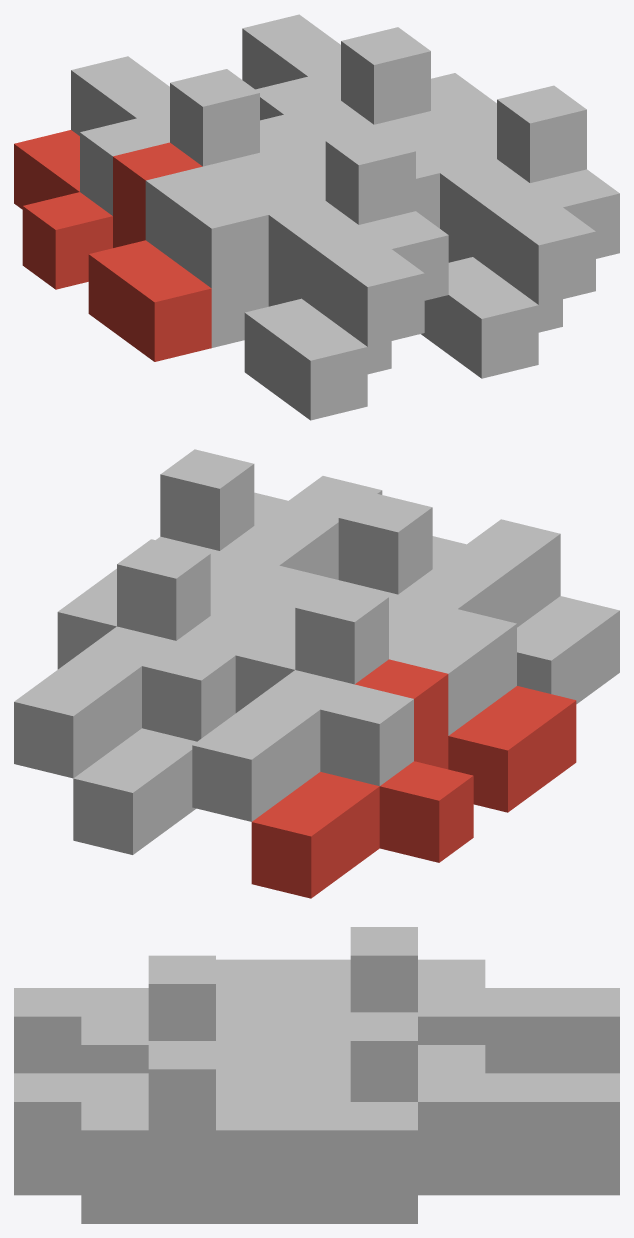
The model's file is tiling.obj.
3 views of the same model, one above another, from view 1: azimuth 30°, elevation 25°; view 2: azimuth 150°, elevation 25°; view 3: azimuth 270°, elevation 25° (orthographic). The views are drawn at different scales.
Visible parts, largest first — view 1: copy_1_domain_3, copy_1_domain_4, copy_1_domain_8, copy_1_domain_1, copy_1_domain_2, copy_1_domain_7, copy_1_domain_6, copy_1_domain_5; view 2: copy_1_domain_3, copy_1_domain_1, copy_1_domain_7, copy_1_domain_4, copy_1_domain_8, copy_1_domain_5, copy_1_domain_2, copy_1_domain_6; view 3: copy_1_domain_8, copy_1_domain_7, copy_1_domain_3, copy_1_domain_4, copy_1_domain_6, copy_1_domain_5.
Boxes of the visible parts, left/top/right/bottom form: copy_1_domain_3: left=71, top=56, right=292, bottom=288; copy_1_domain_4: left=236, top=114, right=448, bottom=346; copy_1_domain_8: left=411, top=73, right=619, bottom=304; copy_1_domain_1: left=14, top=130, right=211, bottom=361; copy_1_domain_2: left=211, top=201, right=391, bottom=420; copy_1_domain_7: left=242, top=14, right=463, bottom=228; copy_1_domain_6: left=421, top=159, right=562, bottom=378; copy_1_domain_5: left=284, top=101, right=373, bottom=138; copy_1_domain_3: left=192, top=582, right=516, bottom=821; copy_1_domain_1: left=251, top=659, right=576, bottom=898; copy_1_domain_7: left=14, top=539, right=338, bottom=778; copy_1_domain_4: left=235, top=493, right=560, bottom=712; copy_1_domain_8: left=57, top=449, right=382, bottom=669; copy_1_domain_5: left=73, top=616, right=269, bottom=854; copy_1_domain_2: left=398, top=569, right=619, bottom=704; copy_1_domain_6: left=220, top=526, right=313, bottom=573; copy_1_domain_8: left=14, top=1041, right=417, bottom=1191; copy_1_domain_7: left=216, top=1012, right=619, bottom=1162; copy_1_domain_3: left=216, top=927, right=619, bottom=1073; copy_1_domain_4: left=14, top=955, right=350, bottom=1073; copy_1_domain_6: left=14, top=1163, right=417, bottom=1223; copy_1_domain_5: left=418, top=1163, right=619, bottom=1195.
Size of the model in its own units: 7 by 3 by 9.
